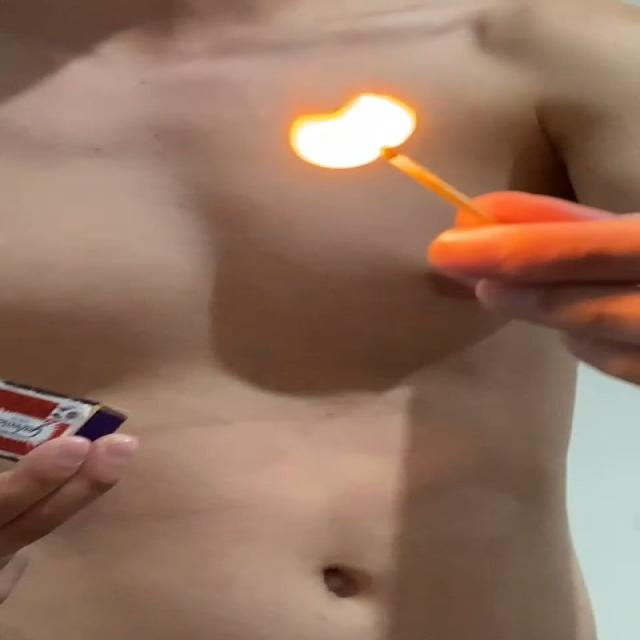fogo-ypXI: (277, 86, 421, 170)
